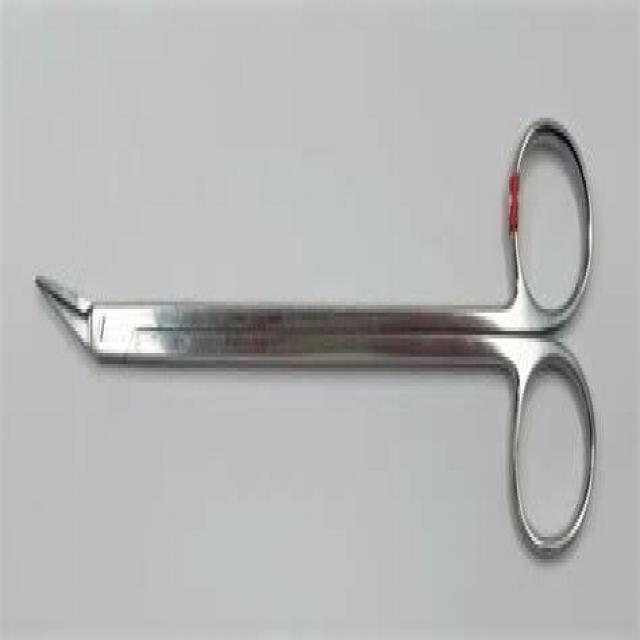Potts: (29, 85, 606, 592)
